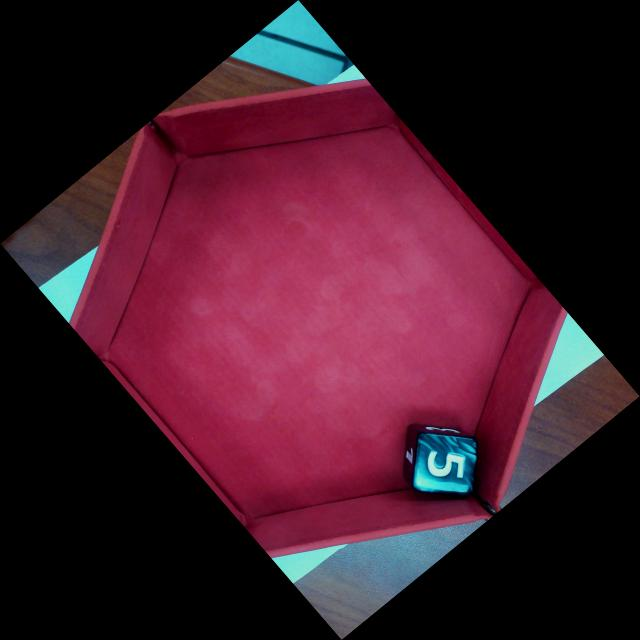dice: (419, 434, 476, 495)
